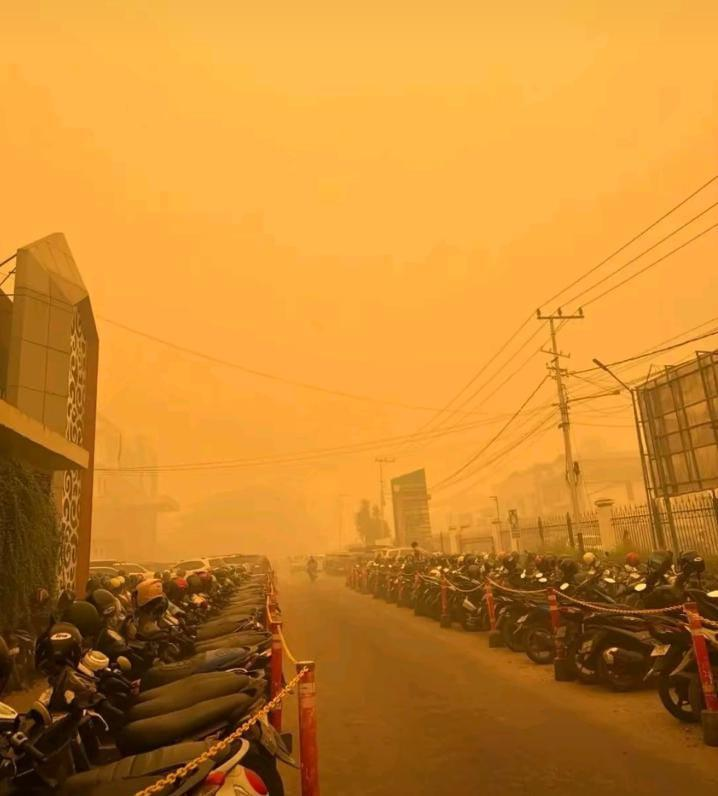Deteksi-Objek-Citra-Berasap: (0, 0, 718, 580)
Gedung: (0, 231, 100, 600), (90, 420, 172, 565), (390, 468, 433, 557)
Kendaraan: (0, 646, 262, 754), (0, 711, 287, 796), (31, 618, 253, 700), (48, 592, 250, 671), (569, 578, 690, 692), (495, 571, 626, 662), (84, 572, 261, 634), (444, 563, 556, 633), (114, 565, 269, 614), (657, 604, 718, 724), (399, 556, 491, 619), (369, 554, 451, 607), (346, 552, 412, 592), (90, 559, 148, 581), (206, 554, 267, 574), (168, 557, 216, 577)
Manusia: (305, 554, 320, 583)
Vegetasi: (0, 452, 64, 645), (355, 498, 389, 552)
